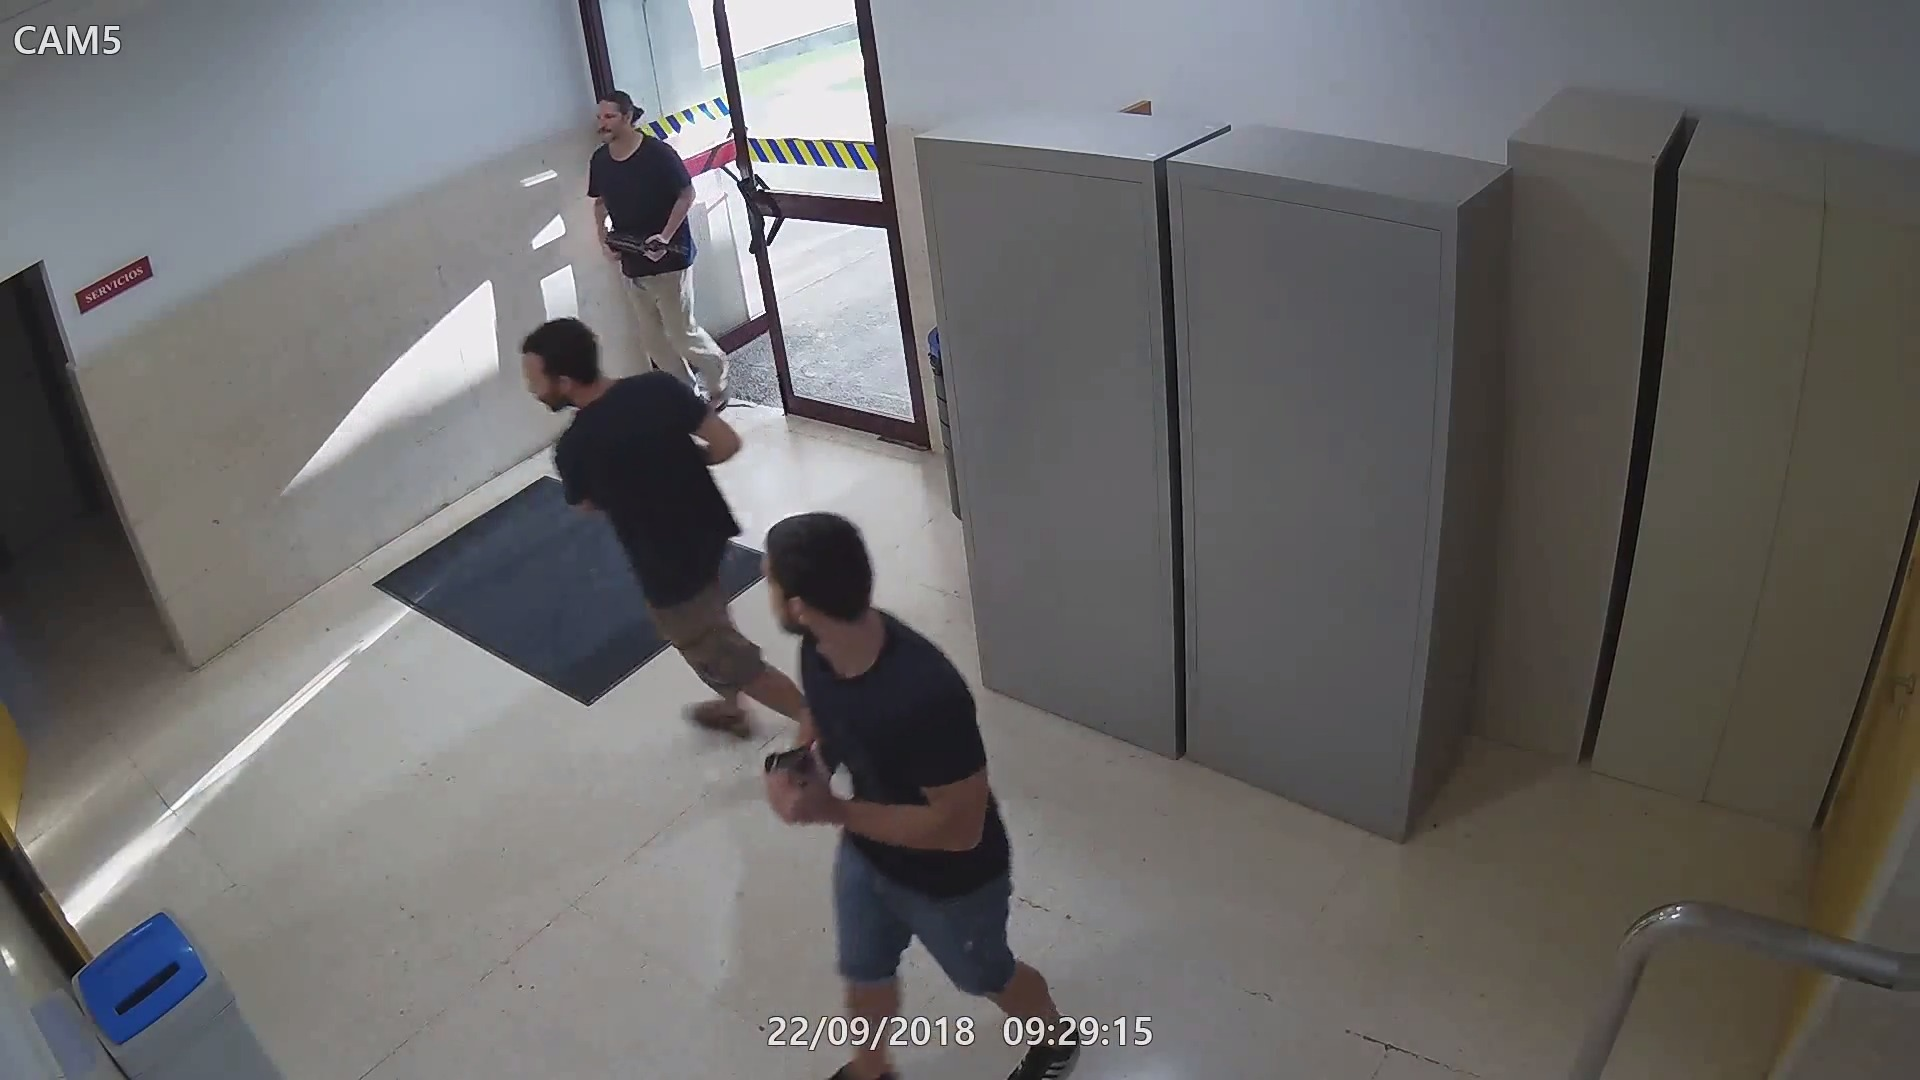Handgun: (760, 738, 829, 819)
Short_rifle: (600, 224, 698, 278)
